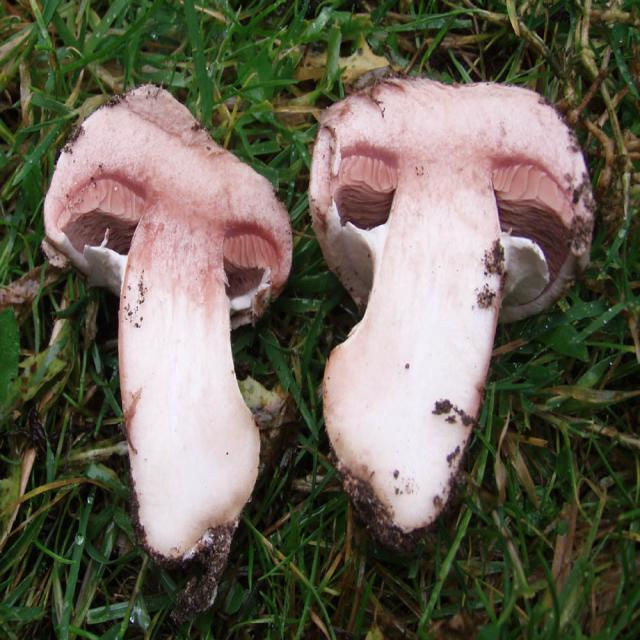Agaricus bisporus: (311, 80, 594, 536), (47, 84, 292, 595)
